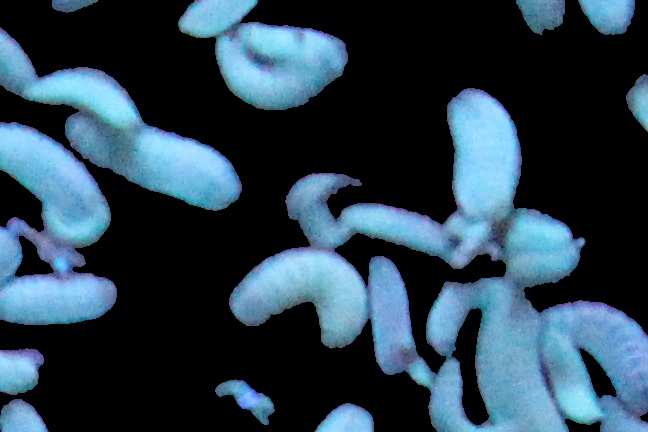larvae: (56, 113, 245, 210), (1, 121, 119, 240), (437, 80, 530, 229), (204, 22, 350, 114), (229, 240, 371, 334), (473, 272, 549, 432), (549, 296, 648, 410), (336, 191, 476, 267), (18, 55, 143, 128), (1, 262, 117, 322), (372, 257, 426, 382), (542, 336, 603, 426)
